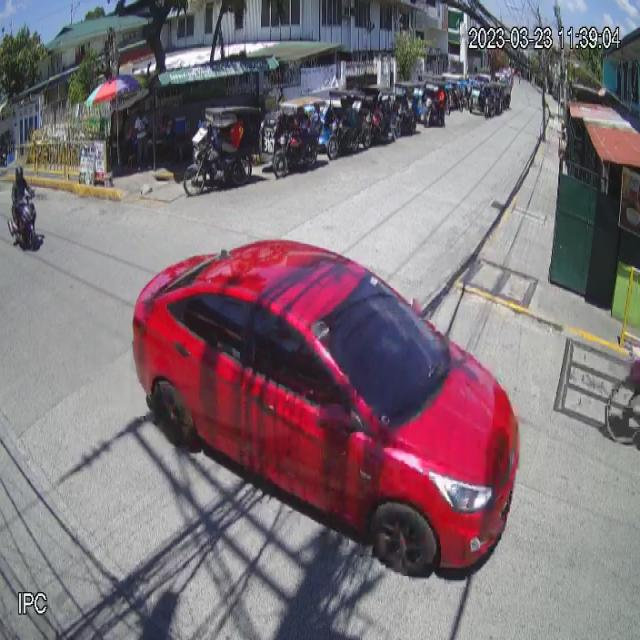Car: (134, 234, 519, 582)
